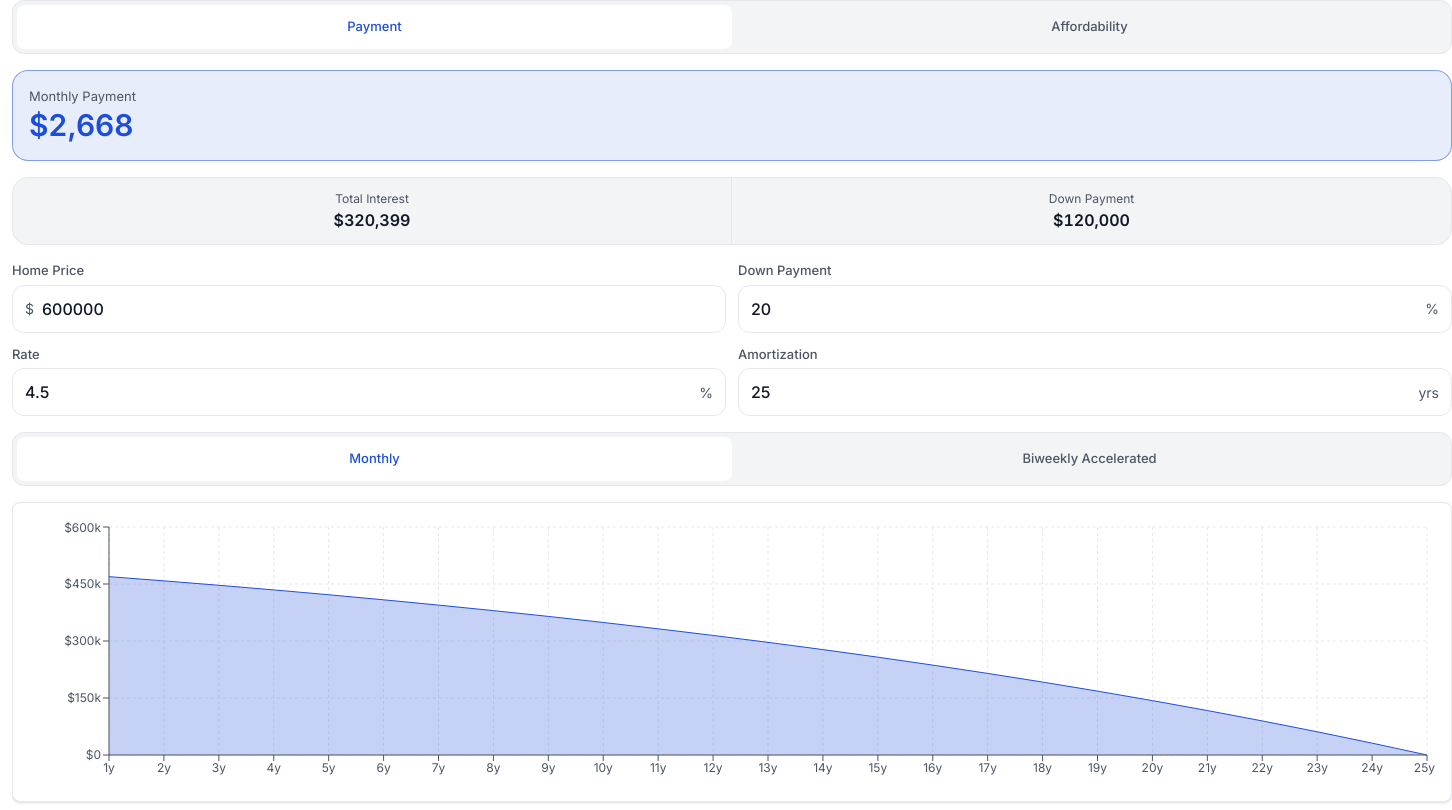
Test: switches to biweekly with its own result and hides extra payments
The width and height of the screenshot is (1452, 810).
Click the button "Biweekly Accelerated" at x=1090, y=459, box x1=732 y1=437 x2=1447 y2=481
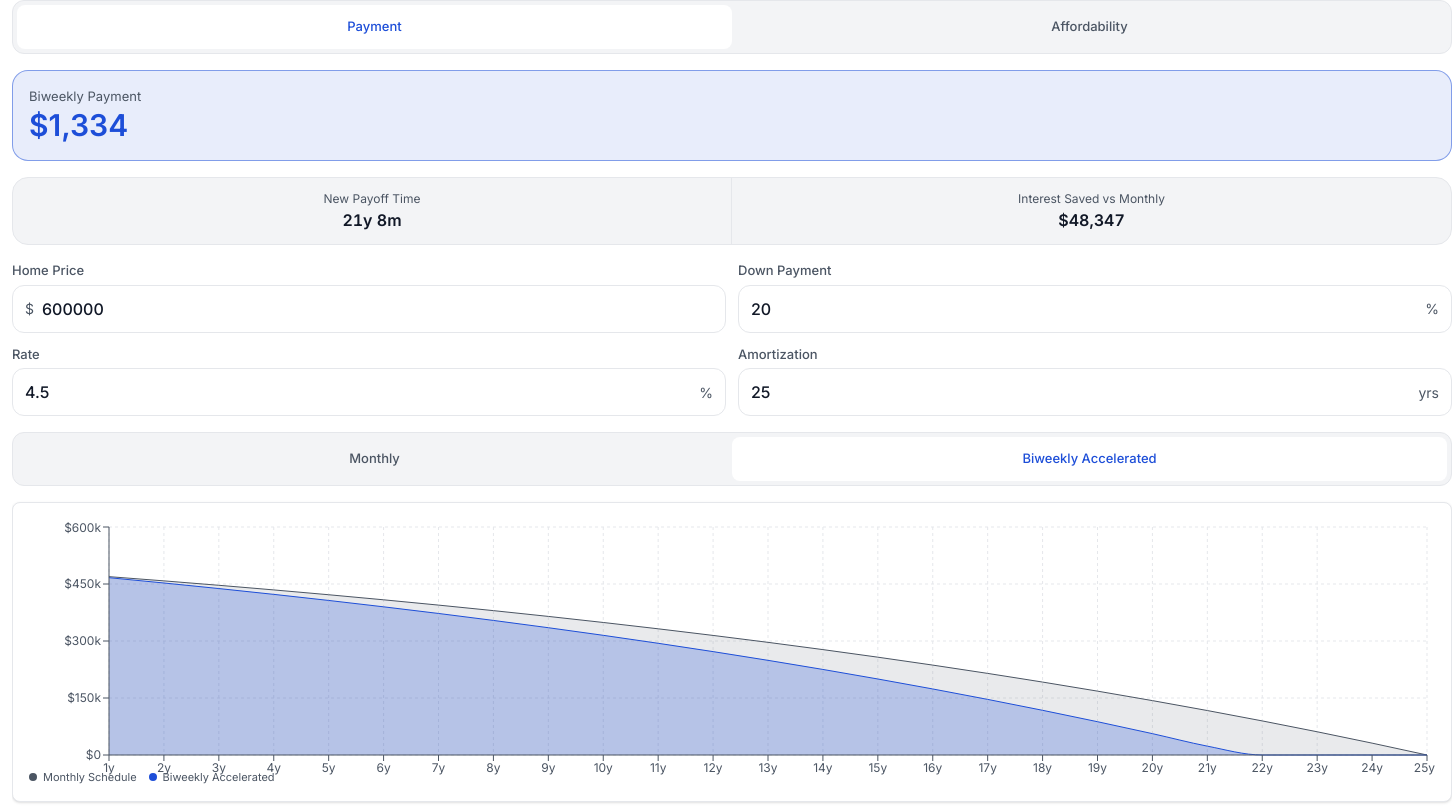
Result: the text "Biweekly Payment" is shown at x1=29 y1=88 x2=141 y2=104
Result: the text "Interest Saved vs Monthly" is shown at x1=1018 y1=191 x2=1165 y2=206
